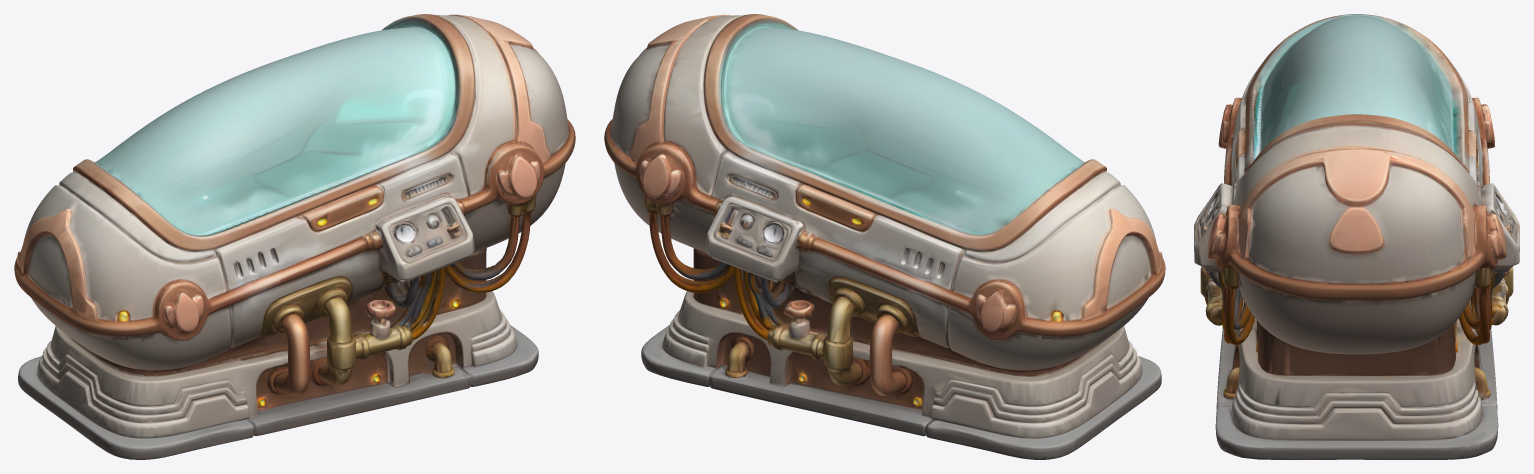
Rendered from cryo_pod.glb.
3 views of the same model, side by side, from view 1: azimuth 30°, elevation 25°; view 2: azimuth 150°, elevation 25°; view 3: azimuth 270°, elevation 25° (orthographic). The views are drawn at different scales.
Visible parts, largest first — view 1: node_0; view 2: node_0; view 3: node_0.
Boxes of the visible parts, box(x1,y1,x2,y2) form: node_0: box(14, 14, 575, 459); node_0: box(604, 14, 1165, 459); node_0: box(1194, 14, 1519, 459).
Size of the model in its own units: 1.07 by 0.6169 by 0.567.
1 material, 1 textured.
